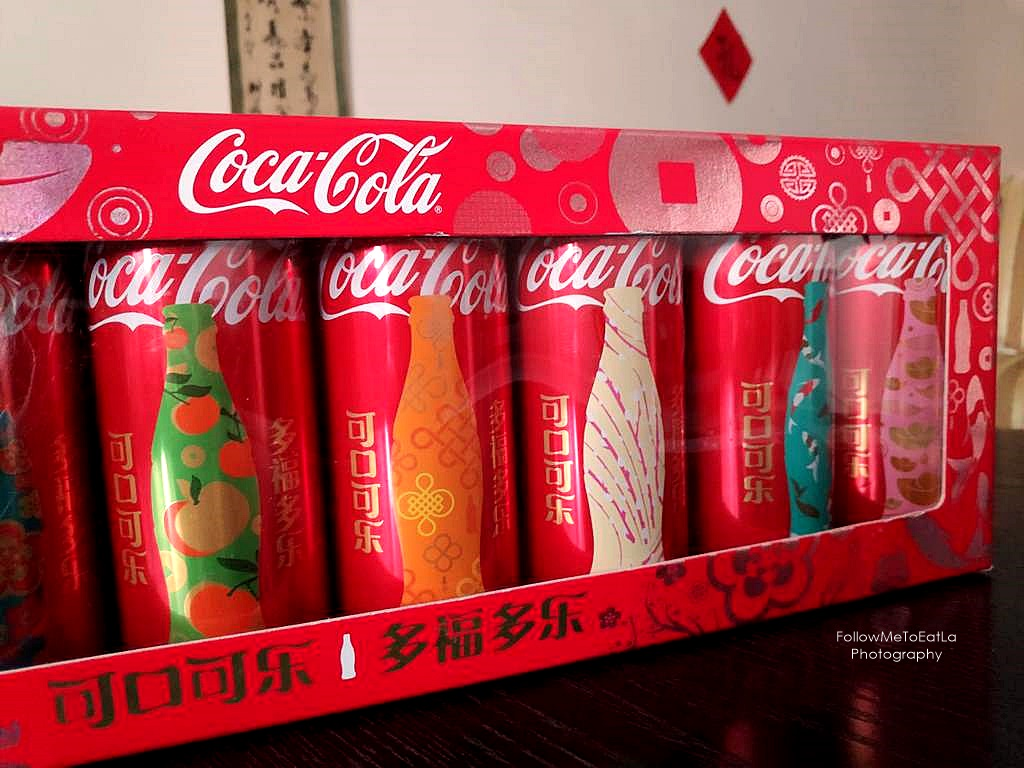cocacola_blue_fish: (688, 225, 842, 554)
cocacola_green_apples: (85, 226, 339, 682)
cocacola_pink_feather: (824, 222, 955, 529)
cocacola_white_lines: (514, 224, 698, 604)
cocacola_yellow_pattern: (326, 222, 530, 632)
